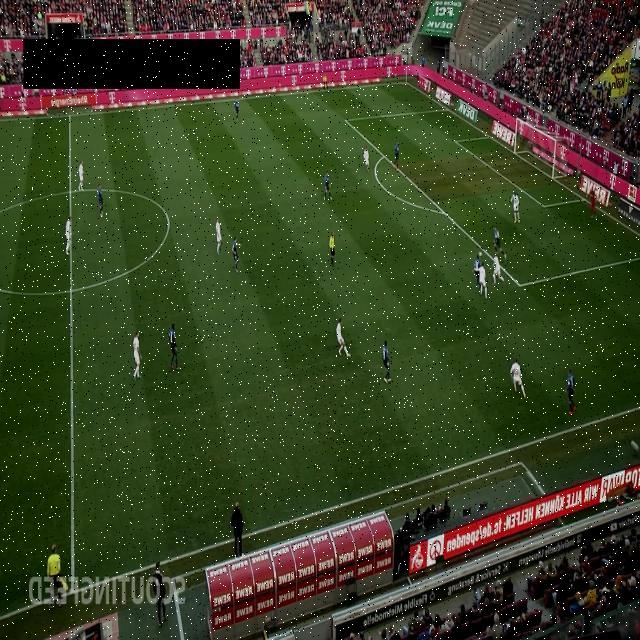Ball: (479, 252, 482, 258)
Corner: (401, 61, 410, 83)
GoalKeeper: (590, 188, 596, 220)
Referee: (47, 543, 63, 610), (328, 230, 336, 266), (322, 72, 328, 92)
TEAM 1: (509, 356, 526, 399), (336, 317, 351, 357), (132, 331, 142, 382), (492, 250, 504, 284), (478, 260, 488, 300), (64, 216, 72, 256), (510, 192, 520, 224), (215, 217, 222, 256), (362, 146, 370, 173), (78, 160, 84, 191)
TEAM 2: (168, 322, 180, 370), (565, 368, 577, 415), (493, 226, 507, 260), (382, 340, 392, 382), (232, 236, 242, 274), (472, 252, 482, 286), (323, 170, 333, 201), (392, 142, 400, 172), (97, 183, 104, 217), (233, 98, 240, 122)
